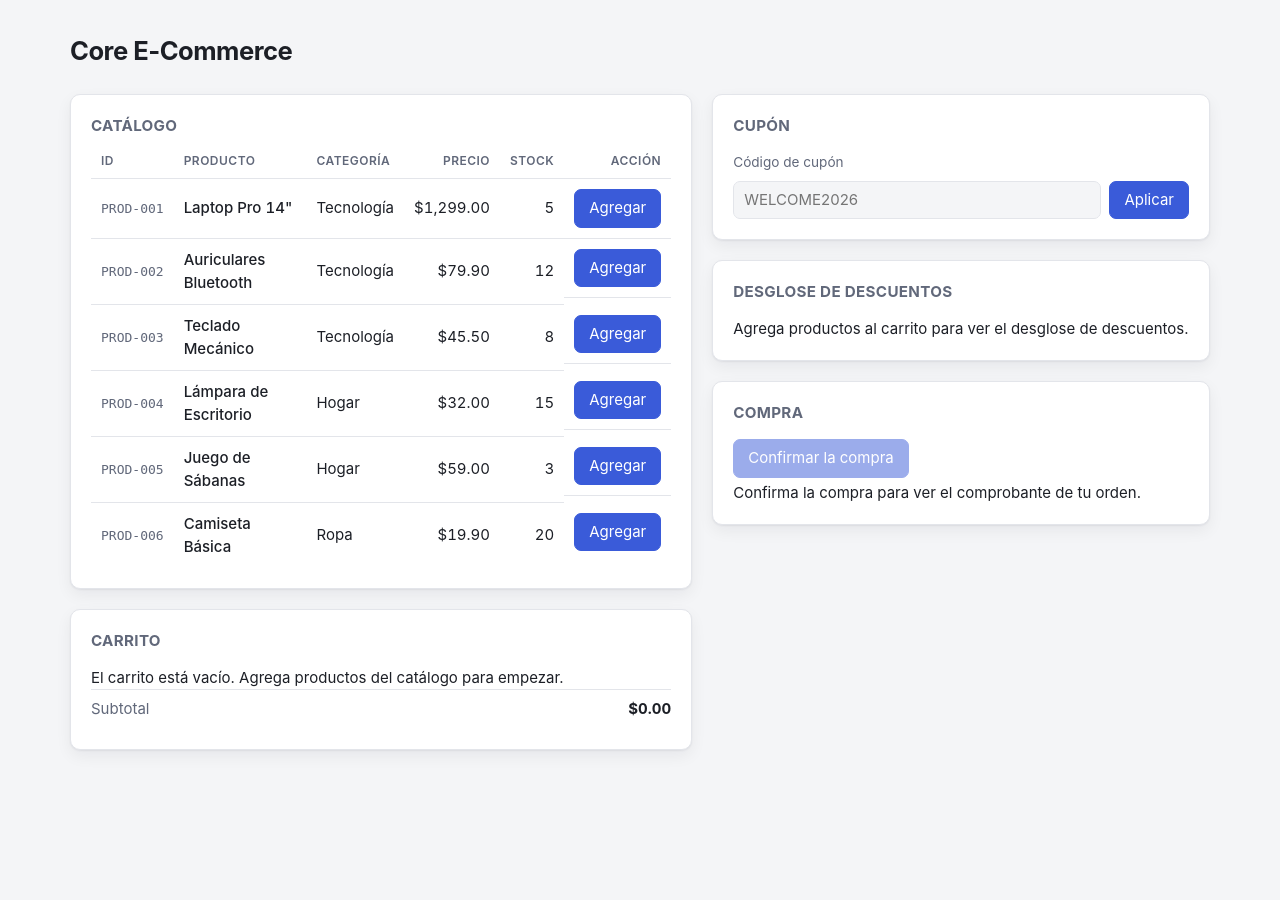
desglose en pantalla (FK-R3.1, FK-R3.2, FK-R3.3, FK-R6.5) › un fallo del desglose muestra el aviso y conserva el carrito (FK-R3.5)
The image size is (1280, 900).
Click the button "Agregar" in the row of "PROD-001" at (618, 208), box [574, 189, 661, 228]
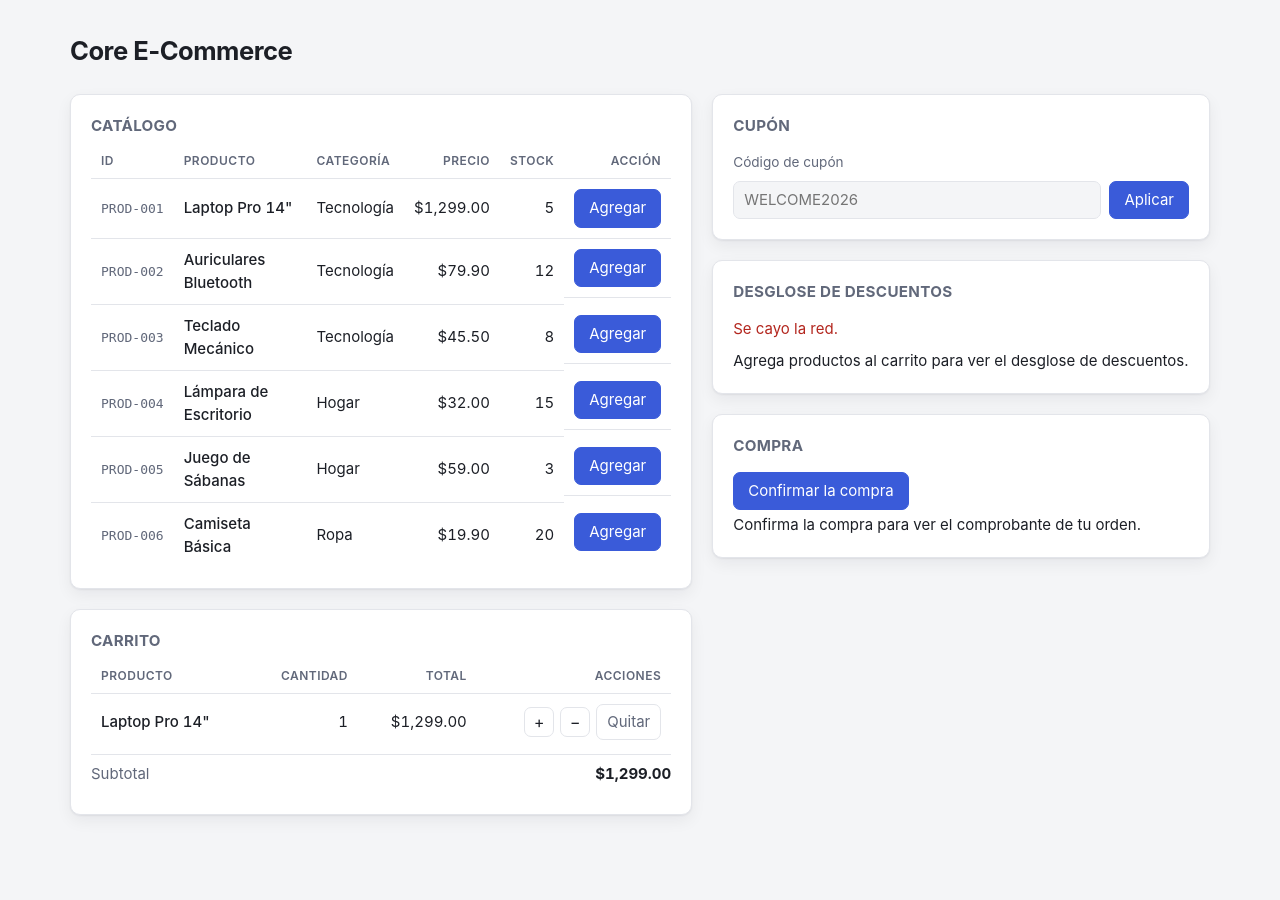
expect the text "Agrega productos al carrito para ver el desglose de descuentos." is shown: met, box [733, 350, 1189, 373]
expect the message reads "Se cayo la red.": met, box [733, 319, 838, 338]
